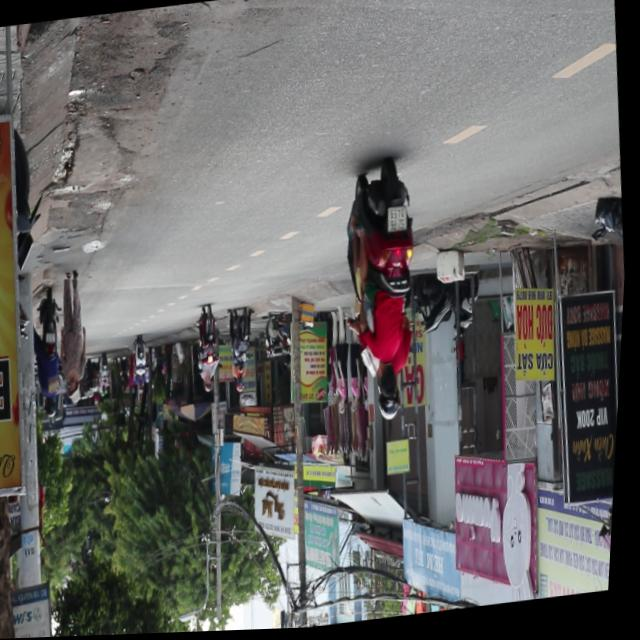helmet: (382, 397, 407, 425)
licenseplate: (335, 159, 439, 429)
motorcyclist: (379, 362, 406, 405)
nohelmet: (389, 210, 410, 237)
